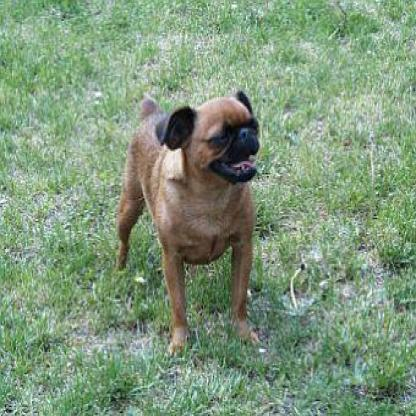Brabancon_griffon: (115, 86, 263, 358)
